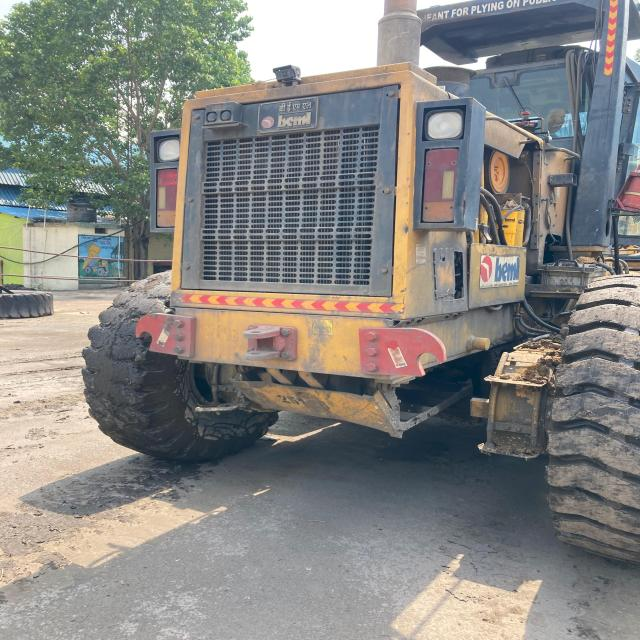buldozerpayloadergrader: (66, 0, 640, 569)
